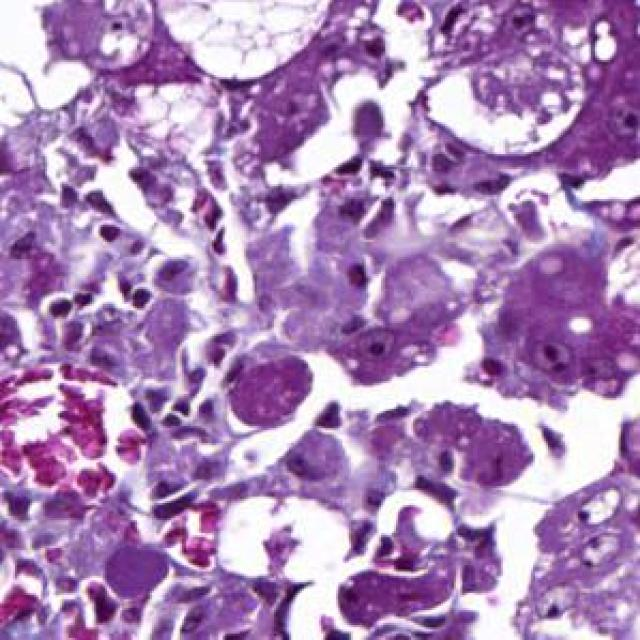inflammation: (51, 152, 146, 261)
